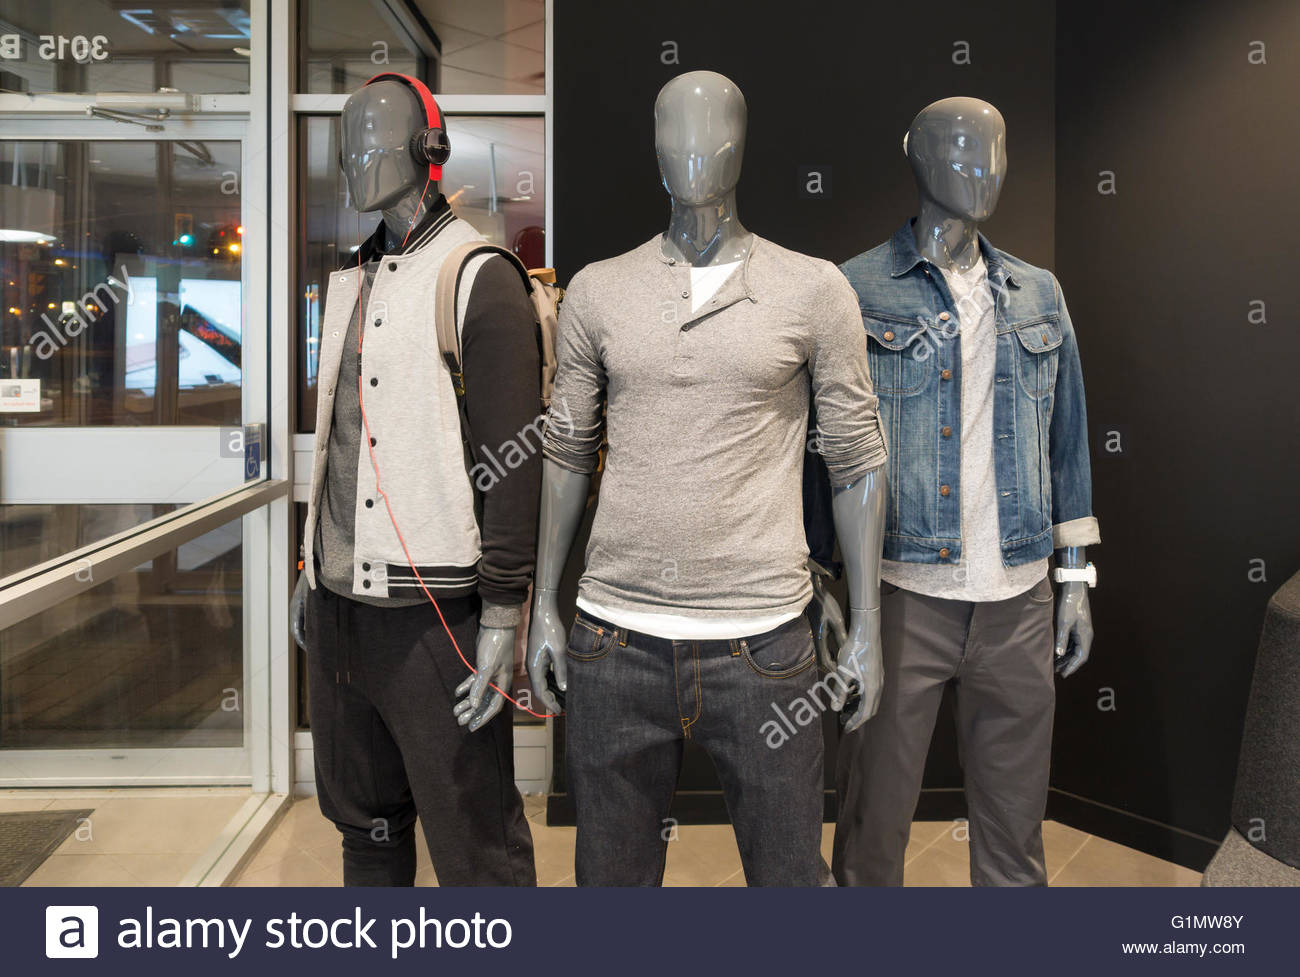person-like: (521, 63, 894, 890), (821, 87, 1108, 885), (286, 68, 553, 888)
